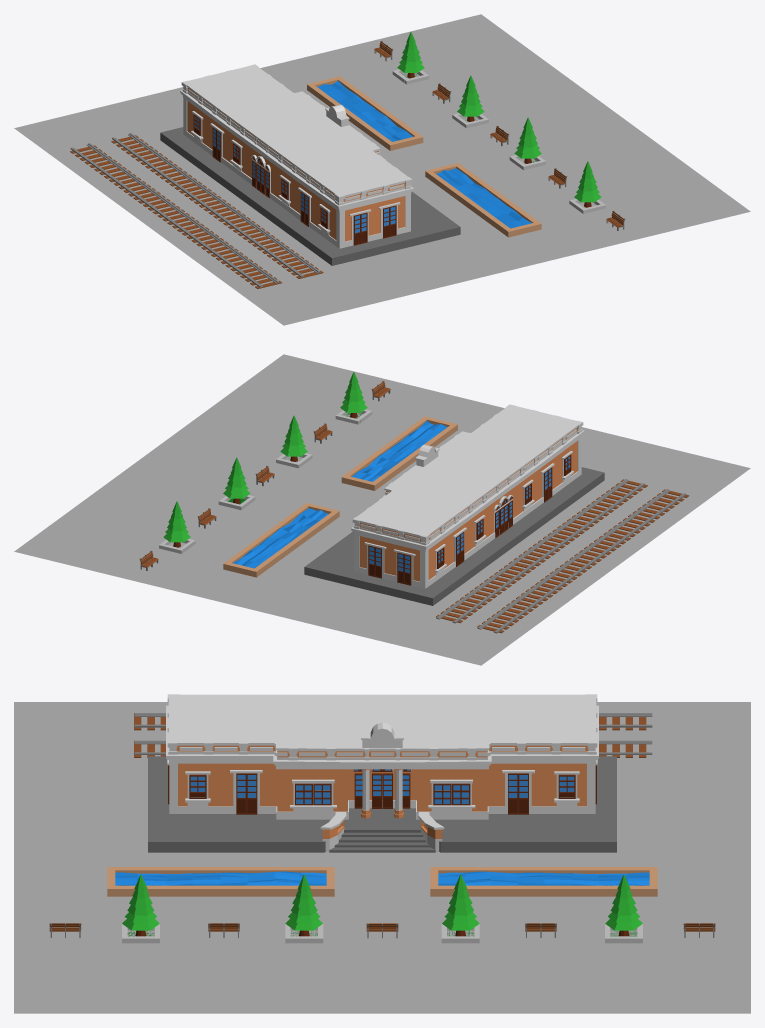
Rendered from Cajica02.glb.
3 renders of one model, top to bottom at view 1: azimuth 30°, elevation 25°; view 2: azimuth 150°, elevation 25°; view 3: azimuth 270°, elevation 25°, orthographic. The views are drawn at different scales.
Parts seen in each view (by area): view 1: Plane.001, Cube, Cube.076, Cube.090, Plane.002, Cube.114, Cube.112, Cube.113, Cube.111; view 2: Plane.001, Cube, Cube.076, Cube.090, Plane.002, Cube.114, Cube.112, Cube.111, Cube.113; view 3: Plane.001, Cube, Cube.076, Cube.090, Plane.002, Cube.072, Cube.016, Cube.018, Cube.020, Cube.011, Cube.012, Cube.069 (+14 smaller).
Boxes of the visible parts, box(x1,y1,x2,y2) form: Plane.001: box(14, 14, 750, 325); Cube: box(180, 64, 413, 248); Cube.076: box(160, 127, 460, 265); Cube.090: box(307, 76, 541, 237); Plane.002: box(317, 81, 532, 228); Cube.114: box(111, 135, 323, 278); Cube.112: box(70, 145, 281, 288); Cube.113: box(112, 133, 320, 277); Cube.111: box(70, 143, 279, 287); Plane.001: box(14, 354, 750, 665); Cube: box(351, 404, 584, 588); Cube.076: box(304, 467, 604, 605); Cube.090: box(223, 416, 457, 577); Plane.002: box(232, 421, 447, 568); Cube.114: box(436, 479, 647, 623); Cube.112: box(477, 489, 689, 633); Cube.111: box(477, 489, 686, 633); Cube.113: box(436, 479, 644, 623); Plane.001: box(14, 702, 750, 1013); Cube: box(166, 694, 598, 819); Cube.076: box(148, 756, 616, 852); Cube.090: box(107, 867, 657, 896); Plane.002: box(115, 871, 649, 885); Cube.072: box(320, 812, 444, 851); Cube.016: box(246, 773, 518, 814); Cube.018: box(236, 773, 528, 814); Cube.020: box(189, 774, 575, 798); Cube.011: box(313, 783, 451, 805); Cube.012: box(295, 783, 470, 805); Cube.069: box(361, 722, 403, 747).
Bounding box in the file's own units: 32.1 × 4.94 × 32.1.
